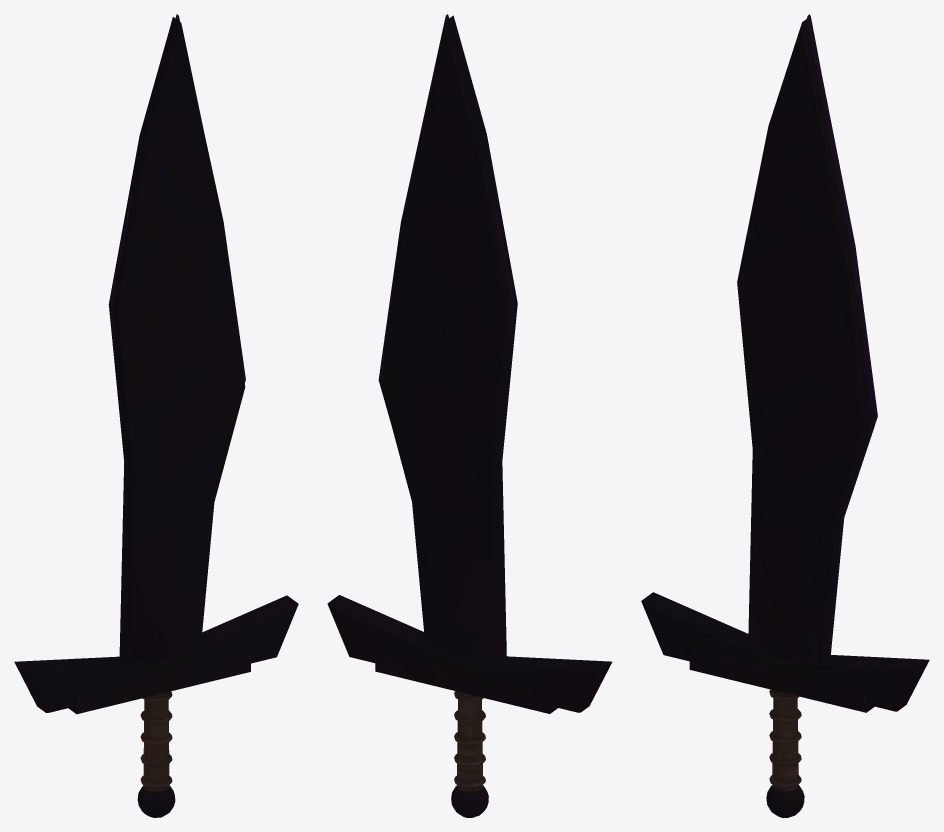
File: blade_void_lo.glb
3 renders of one model, left to right at view 1: azimuth 30°, elevation 25°; view 2: azimuth 150°, elevation 25°; view 3: azimuth 330°, elevation 25°, orthographic.
Visible parts, largest first — view 1: Blade_void_lo; view 2: Blade_void_lo; view 3: Blade_void_lo.
Boxes of the visible parts, bbox=[...] form: Blade_void_lo: bbox=[14, 14, 298, 817]; Blade_void_lo: bbox=[327, 14, 612, 817]; Blade_void_lo: bbox=[641, 14, 929, 817].
Size of the model in its own units: 0.532 by 1.48 by 0.064.
1 material, 1 textured.
